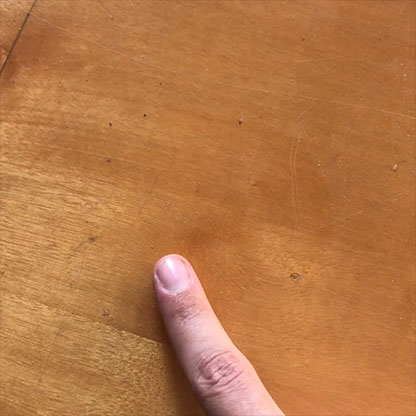fingertip: (142, 248, 206, 305)
